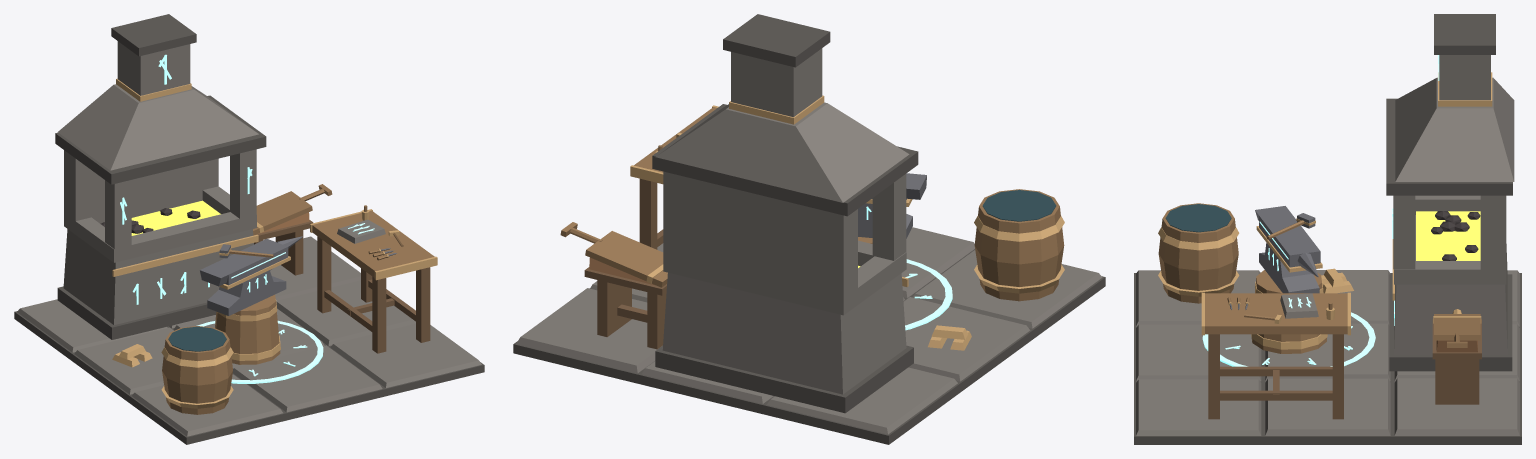
Rendered from runeforge.glb.
3 views of the same model, side by side, from view 1: azimuth 30°, elevation 25°; view 2: azimuth 150°, elevation 25°; view 3: azimuth 270°, elevation 25° (orthographic). The views are drawn at different scales.
Parts seen in each view (by area): view 1: forge, floor, engraving_bench, quench_barrel, anvil, anvil_stump, bellows_top, forge_coals, quench_water, bellows, floor_rune_ring, rune_tablet (+2 smaller); view 2: forge, floor, quench_barrel, bellows, bellows_top, engraving_bench, quench_water, anvil, floor_rune_ring, bronze_ingots; view 3: floor, forge, engraving_bench, quench_barrel, anvil, forge_coals, bellows, anvil_stump, quench_water, bellows_top, rune_tablet, floor_rune_ring (+3 smaller).
Part boxes in pixels (x1,y1,x2,y2): forge: (55, 14, 266, 339); floor: (14, 236, 484, 444); engraving_bench: (310, 209, 437, 353); quench_barrel: (161, 326, 233, 414); anvil: (199, 236, 302, 315); anvil_stump: (215, 294, 280, 364); bellows_top: (253, 184, 332, 235); forge_coals: (100, 200, 220, 235); quench_water: (168, 326, 226, 351); bellows: (254, 220, 313, 275); floor_rune_ring: (196, 320, 323, 383); rune_tablet: (337, 219, 385, 243); forge: (652, 14, 918, 413); floor: (513, 227, 1105, 444); quench_barrel: (974, 189, 1064, 301); bellows: (584, 267, 666, 349); bellows_top: (560, 222, 667, 287); engraving_bench: (630, 105, 718, 249); quench_water: (982, 190, 1056, 221); anvil: (858, 173, 926, 238); floor_rune_ring: (905, 259, 952, 330); bronze_ingots: (928, 325, 971, 350); floor: (1134, 270, 1521, 444); forge: (1386, 14, 1514, 371); engraving_bench: (1201, 292, 1350, 419); quench_barrel: (1158, 203, 1239, 303); anvil: (1255, 206, 1322, 293); forge_coals: (1416, 211, 1480, 260); bellows: (1432, 309, 1481, 404); anvil_stump: (1251, 270, 1327, 353); quench_water: (1165, 204, 1231, 232); bellows_top: (1433, 314, 1481, 347); rune_tablet: (1280, 293, 1318, 318); floor_rune_ring: (1202, 312, 1375, 366).
Size of what is drawn, in the model's own units: 3 by 2.68 by 3.
